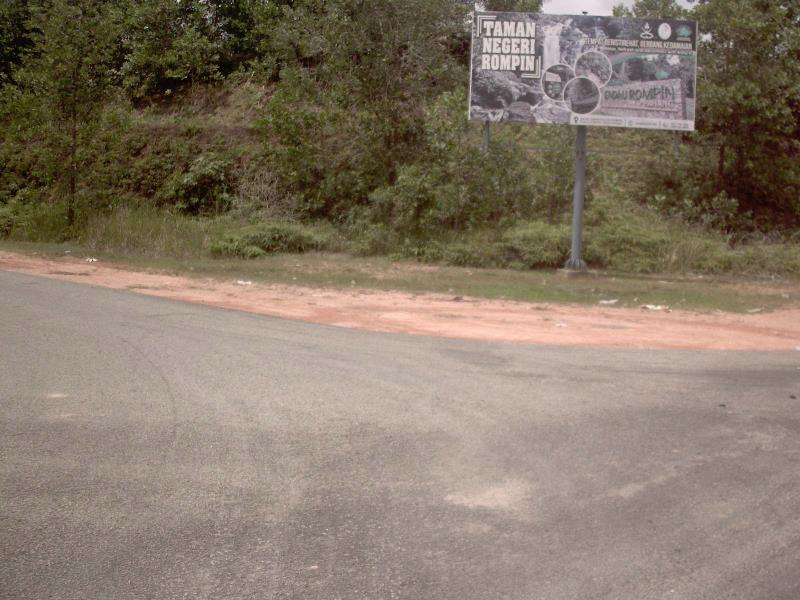ads_sign: (450, 0, 717, 144)
